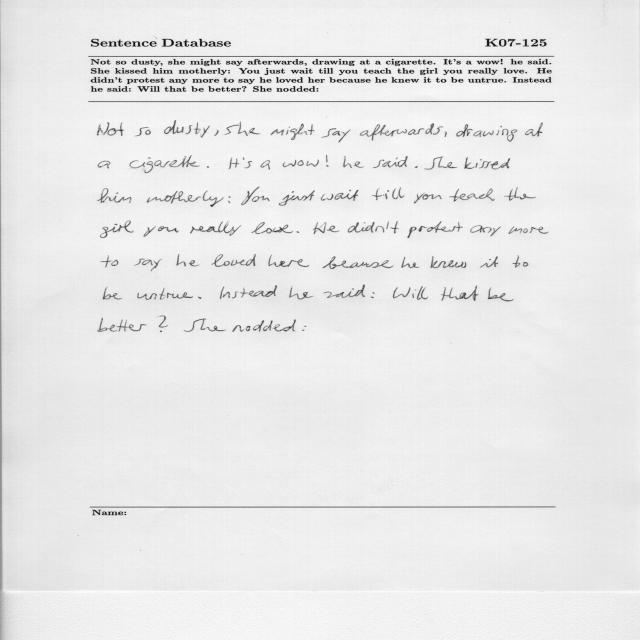word: (360, 124, 443, 141), (130, 155, 200, 173), (147, 191, 223, 207), (457, 124, 518, 142), (408, 221, 463, 238), (323, 256, 394, 269), (232, 319, 296, 332), (220, 285, 277, 299), (164, 121, 210, 138), (190, 221, 241, 236), (98, 317, 147, 332), (271, 124, 315, 140), (137, 288, 193, 300), (348, 221, 399, 233), (464, 157, 510, 170), (442, 285, 479, 301), (184, 318, 226, 332), (450, 189, 495, 202), (211, 254, 256, 267), (279, 190, 315, 206), (101, 221, 134, 238), (224, 121, 260, 136), (324, 285, 365, 298), (241, 187, 270, 205), (98, 188, 132, 203), (251, 222, 293, 234), (393, 286, 428, 300), (269, 255, 309, 267), (504, 187, 536, 201), (424, 157, 457, 170), (321, 128, 351, 142), (373, 156, 408, 168), (431, 256, 466, 268), (372, 187, 404, 200), (321, 190, 358, 201), (143, 226, 179, 237), (98, 122, 125, 136), (134, 259, 162, 272), (488, 288, 514, 302), (470, 226, 501, 237), (508, 226, 549, 234), (289, 287, 314, 300), (313, 222, 340, 234), (283, 160, 319, 168), (414, 193, 442, 203), (176, 255, 199, 267), (525, 123, 543, 137), (343, 156, 364, 168), (103, 288, 122, 300), (480, 256, 498, 268), (513, 255, 529, 268), (401, 257, 419, 268), (101, 257, 118, 268), (135, 127, 151, 136), (159, 316, 168, 332), (229, 158, 240, 170), (98, 161, 111, 169), (243, 157, 252, 168), (261, 161, 270, 170), (326, 155, 329, 167), (214, 130, 219, 136), (371, 292, 375, 298), (228, 196, 231, 203), (302, 326, 306, 331), (444, 132, 447, 137), (198, 296, 202, 299), (415, 166, 418, 168), (207, 166, 209, 168), (297, 231, 299, 233)
